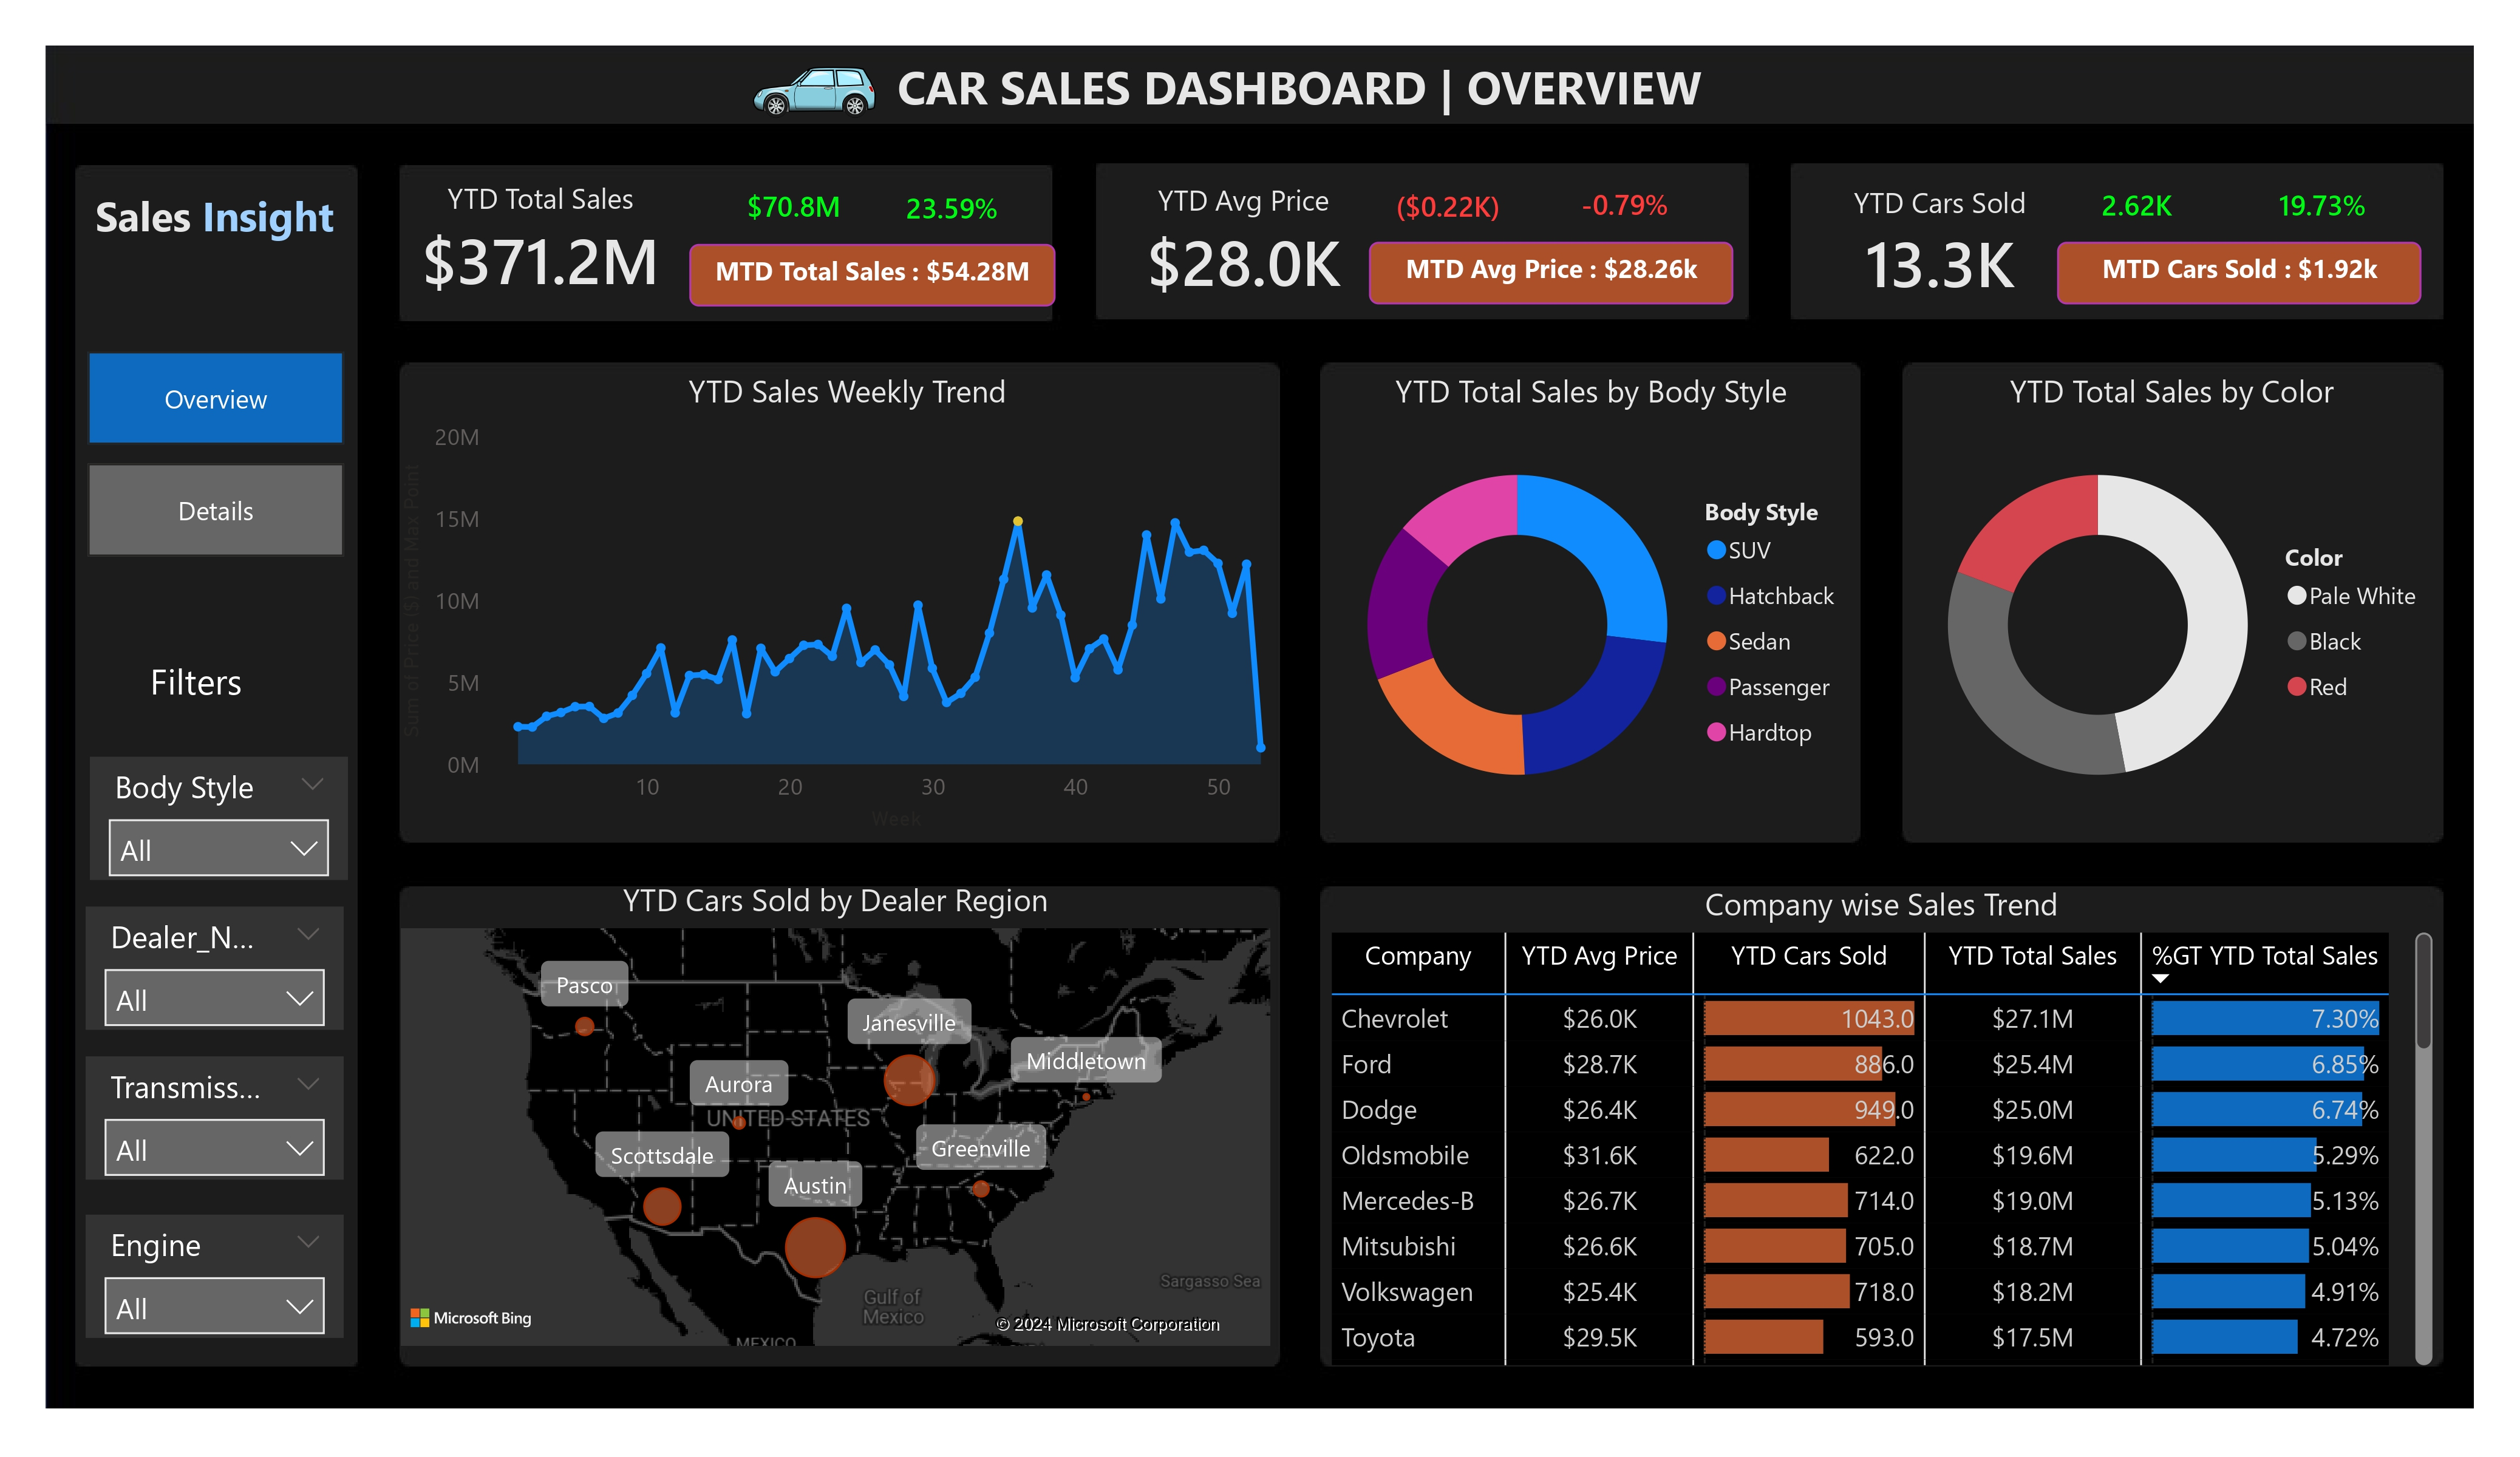

The page's visual inventory and layout, read from the dashboard file:
{"tool":"powerbi","page":{"name":"Overview","canvas":[1280,720],"ordinal":0},"visuals":[{"type":"card","title":"YTD Total Sales","fields":{"Values":["car_data.YTD Total Sales"]},"box":[181.9,69.8,157,67.3],"z":0},{"type":"card","fields":{"Values":["car_data.Sales Difference"]},"box":[352.7,69.8,83.5,33.6],"z":1000},{"type":"card","fields":{"Values":["car_data.YoY Sales Growth"]},"box":[436.2,71,83.5,33.6],"z":2000},{"type":"card","fields":{"Values":["car_data.MTD KPI"]},"box":[339,104.7,193.2,33],"z":3000},{"type":"card","title":"YTD Avg Price","fields":{"Values":["car_data.YTD Avg Price"]},"box":[553.3,71,157,67.3],"z":4000},{"type":"card","fields":{"Values":["car_data.Avg Price Diff"]},"box":[697.7,69.7,83.3,33.6],"z":5000},{"type":"card","fields":{"Values":["car_data.YoY Avg Price Growth"]},"box":[790.8,69.1,83,33.9],"z":6000},{"type":"card","fields":{"Values":["car_data.MTD Avg Price KPI"]},"box":[697.3,103.3,192.5,33.1],"z":7000},{"type":"card","title":"YTD Cars Sold","fields":{"Values":["car_data.YTD Cars Sold"]},"box":[920.3,72.7,156.8,66.3],"z":8000},{"type":"card","fields":{"Values":["car_data.Cars Sold Diff"]},"box":[1060.6,68.8,84.1,34.4],"z":9000},{"type":"card","fields":{"Values":["car_data.YoY Cars Sold Growth"]},"box":[1157.4,68.8,84.1,34.4],"z":10000},{"type":"card","fields":{"Values":["car_data.MTD Cars Sold KPI"]},"box":[1060.6,103.3,192.5,33.1],"z":11000},{"type":"areaChart","title":"YTD Sales Weekly Trend","fields":{"Category":["Calendar Table.Week"],"Y":["Sum(car_data.Price ($))","car_data.Max Point"]},"box":[182.3,170.8,480.6,247.3],"z":12000},{"type":"donutChart","fields":{"Y":["car_data.YTD Total Sales"],"Category":["car_data.Body Style"]},"box":[671.8,170.8,285.5,247.3],"z":13000},{"type":"donutChart","title":"YTD Total Sales by Color","fields":{"Y":["car_data.YTD Total Sales"],"Category":["car_data.Color"]},"box":[977.7,170.8,285.5,247.3],"z":14000},{"type":"map","title":"YTD Cars Sold by Dealer Region","fields":{"Category":["car_data.Dealer_Region"],"Size":["car_data.YTD Cars Sold"]},"box":[182.3,439.8,467.8,251.1],"z":15000},{"type":"tableEx","title":"Company wise Sales Trend","fields":{"Values":["car_data.Company","car_data.YTD Avg Price","car_data.YTD Cars Sold","car_data.YTD Total Sales1","car_data.YTD Total Sales"]},"box":[671.8,441.1,591.5,258.8],"z":16000},{"type":"textbox","box":[443.6,0,532.8,48.4],"z":17000},{"type":"slicer","fields":{"Values":["car_data.Body Style"]},"box":[22.9,374.8,136.4,65],"z":18000},{"type":"slicer","fields":{"Values":["car_data.Dealer_Name"]},"box":[21.7,453.8,136.4,65],"z":19000},{"type":"slicer","fields":{"Values":["car_data.Transmission"]},"box":[21.7,532.8,136.4,65],"z":20000},{"type":"slicer","fields":{"Values":["car_data.Engine"]},"box":[21.7,615.7,136.4,65],"z":21000},{"type":"textbox","box":[40.8,317.4,76.5,42.1],"z":22000},{"type":"textbox","box":[21.7,70.1,169.5,49.7],"z":23000},{"type":"pageNavigator","box":[22.4,161.7,135.6,109.5],"z":23001},{"type":"image","box":[360.4,0,91.2,48.9],"z":23003}]}

Visuals, with their boxes in screenshot pixels (x1, y1, x2, y2):
"YTD Total Sales" card: 390/178/689/305
card - car_data.Sales Difference: 715/178/873/242
card - car_data.YoY Sales Growth: 873/180/1032/244
card - car_data.MTD KPI: 689/244/1055/307
"YTD Avg Price" card: 1095/180/1394/308
card - car_data.Avg Price Diff: 1369/178/1528/242
card - car_data.YoY Avg Price Growth: 1546/177/1704/241
card - car_data.MTD Avg Price KPI: 1369/242/1734/304
"YTD Cars Sold" card: 1792/183/2089/309
card - car_data.Cars Sold Diff: 2058/176/2218/241
card - car_data.YoY Cars Sold Growth: 2242/176/2402/241
card - car_data.MTD Cars Sold KPI: 2058/242/2423/304
"YTD Sales Weekly Trend" areaChart: 392/370/1304/839
donutChart - car_data.YTD Total Sales x car_data.Body Style: 1320/370/1862/839
"YTD Total Sales by Color" donutChart: 1901/370/2442/839
"YTD Cars Sold by Dealer Region" map: 392/880/1279/1356
"Company wise Sales Trend" tableEx: 1320/882/2443/1373
textbox: 887/46/1898/137
slicer - car_data.Body Style: 89/756/348/880
slicer - car_data.Dealer_Name: 87/906/346/1030
slicer - car_data.Transmission: 87/1056/346/1180
slicer - car_data.Engine: 87/1214/346/1337
textbox: 123/648/268/727
textbox: 87/178/408/273
pageNavigator: 88/352/346/560
image: 729/46/902/138
